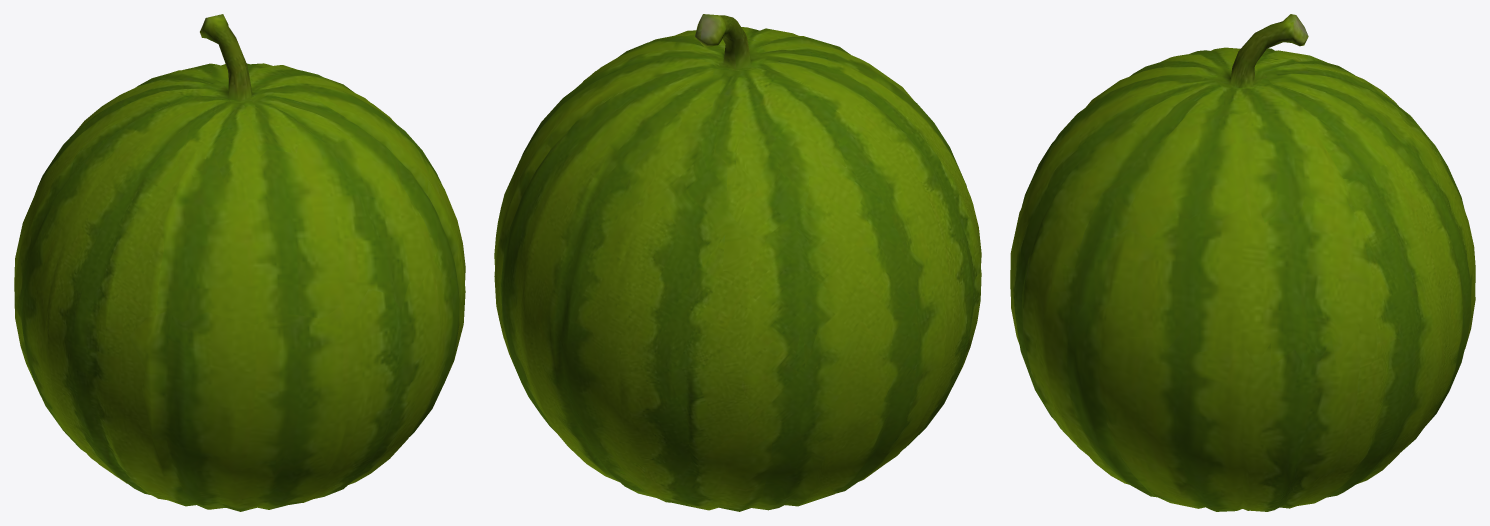
Rendered from ammo-melon.glb.
The picture shows the model from 3 angles, left to right: view 1: azimuth 30°, elevation 25°; view 2: azimuth 150°, elevation 25°; view 3: azimuth 270°, elevation 25°; orthographic projection. The views are drawn at different scales.
Parts seen in each view (by area): view 1: tripo_node_2e4bab52-3013-47ca-aa1d-fcba9057f6a2; view 2: tripo_node_2e4bab52-3013-47ca-aa1d-fcba9057f6a2; view 3: tripo_node_2e4bab52-3013-47ca-aa1d-fcba9057f6a2.
Boxes of the visible parts, x1,y1,x2,y2 form: tripo_node_2e4bab52-3013-47ca-aa1d-fcba9057f6a2: (14,14,465,511); tripo_node_2e4bab52-3013-47ca-aa1d-fcba9057f6a2: (494,14,981,511); tripo_node_2e4bab52-3013-47ca-aa1d-fcba9057f6a2: (1010,14,1475,511).
Bounding box in the file's own units: 0.908 × 0.9815 × 0.9009.
1 material, 1 textured.
